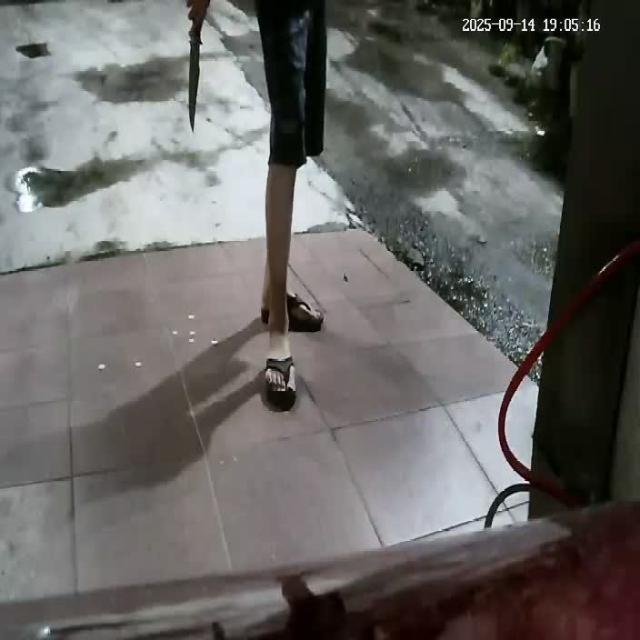senjata_tajam: (182, 29, 204, 132)
